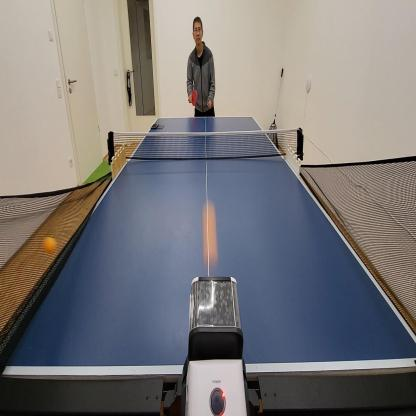Ball: (202, 202, 217, 262), (43, 238, 56, 254)
